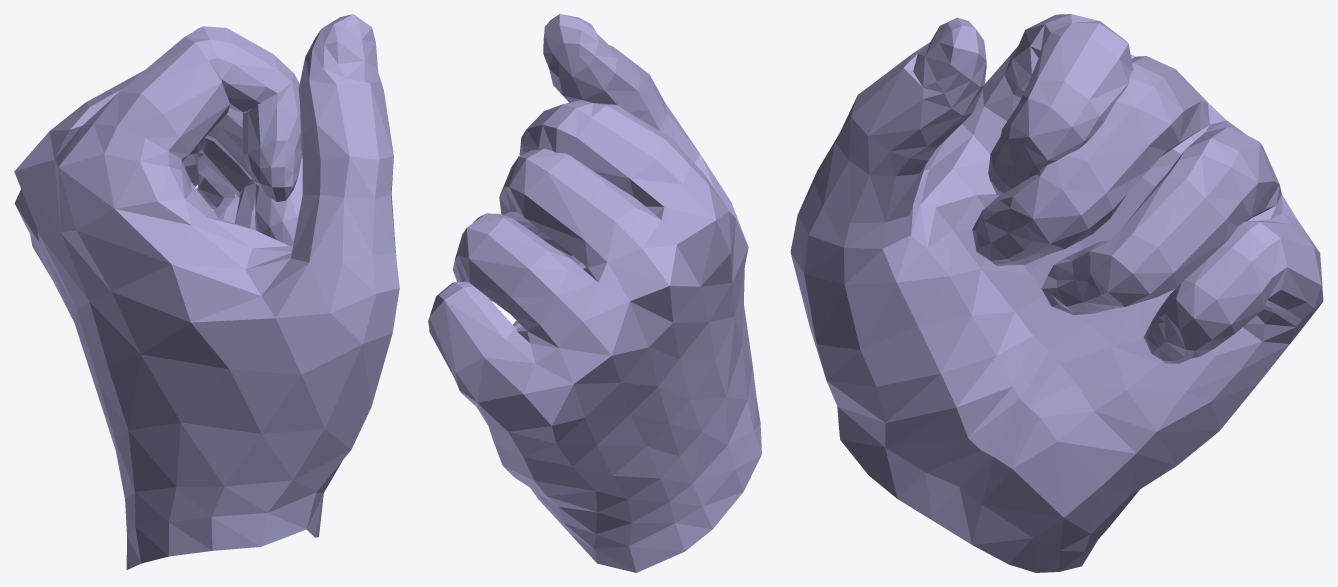
The model's file is frame_0040_source_000040_hand.glb.
The picture shows the model from 3 angles, left to right: view 1: azimuth 30°, elevation 25°; view 2: azimuth 150°, elevation 25°; view 3: azimuth 270°, elevation 25°; orthographic projection. The views are drawn at different scales.
Parts seen in each view (by area): view 1: world; view 2: world; view 3: world.
Boxes of the visible parts, x1,y1,x2,y2 form: world: [14, 14, 399, 569]; world: [428, 14, 761, 572]; world: [790, 14, 1323, 572].
Bounding box in the file's own units: 0.0606 × 0.1226 × 0.0999.
